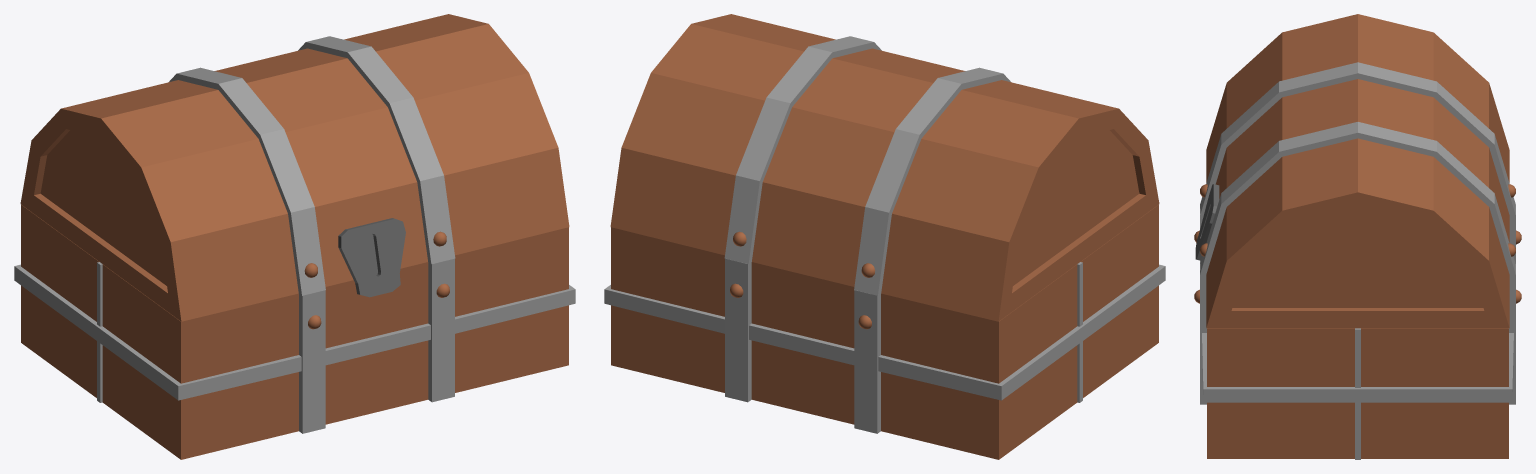
File: chest_closed.obj
3 views of the same model, side by side, from view 1: azimuth 30°, elevation 25°; view 2: azimuth 150°, elevation 25°; view 3: azimuth 270°, elevation 25° (orthographic). The views are drawn at different scales.
Parts seen in each view (by area): view 1: chest_closed; view 2: chest_closed; view 3: chest_closed.
Part boxes in pixels (x1,y1,x2,y2): chest_closed: [14, 14, 575, 459]; chest_closed: [604, 14, 1165, 459]; chest_closed: [1194, 14, 1521, 459].
Bounding box in the file's own units: 0.4368 × 0.3035 × 0.3306.
